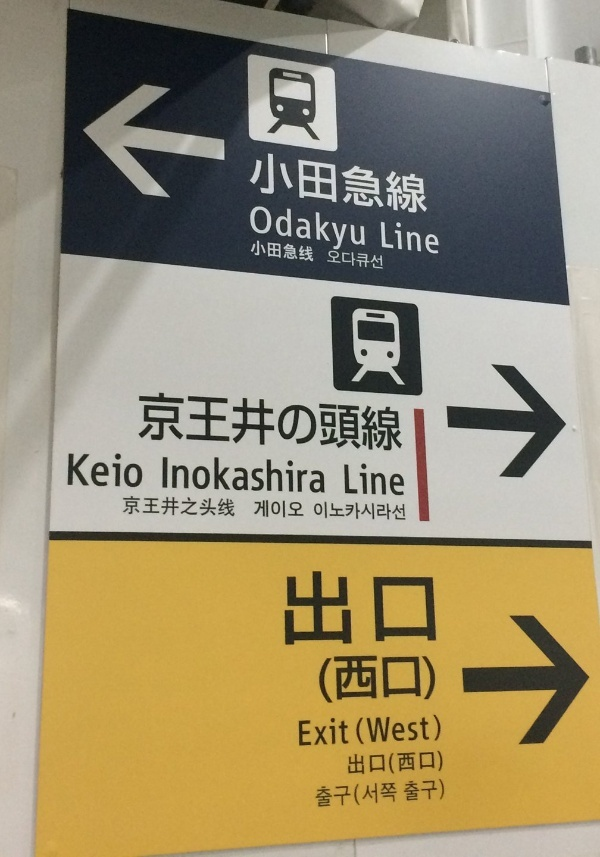text: (289, 571, 304, 646), (305, 571, 320, 646), (321, 571, 336, 646), (337, 571, 352, 646), (353, 571, 368, 646), (369, 571, 384, 646), (385, 571, 400, 646), (401, 571, 416, 646), (417, 571, 432, 646), (257, 152, 272, 217), (273, 152, 288, 217), (289, 152, 304, 217), (305, 152, 320, 217), (321, 152, 336, 217), (337, 152, 352, 217), (353, 152, 368, 217), (369, 152, 384, 217), (385, 152, 400, 217), (401, 152, 416, 217), (145, 392, 160, 453), (161, 392, 176, 453), (177, 392, 192, 453), (193, 392, 208, 453), (209, 392, 224, 453), (225, 392, 240, 453), (241, 392, 256, 453), (257, 392, 272, 453), (273, 392, 288, 453), (289, 392, 304, 453), (305, 392, 320, 453), (321, 392, 336, 453), (337, 392, 352, 453), (353, 392, 368, 453), (369, 392, 384, 453), (385, 392, 400, 453), (257, 205, 272, 255), (273, 205, 288, 255), (289, 205, 304, 255), (305, 205, 320, 255), (321, 205, 336, 255), (337, 205, 352, 255), (321, 655, 336, 705), (337, 655, 352, 705), (353, 655, 368, 705), (369, 655, 384, 705), (385, 655, 400, 705), (401, 655, 416, 705), (417, 655, 432, 705), (417, 152, 428, 217), (353, 205, 366, 255), (177, 456, 192, 495), (193, 456, 208, 495), (209, 456, 224, 495), (225, 456, 240, 495), (241, 456, 256, 495), (257, 456, 272, 495), (273, 456, 288, 495), (289, 456, 304, 495), (305, 456, 320, 495), (162, 456, 176, 495), (81, 453, 96, 489), (97, 453, 112, 489), (113, 453, 128, 489), (385, 221, 400, 256), (401, 221, 416, 256), (417, 221, 432, 256), (353, 462, 368, 497), (369, 462, 384, 497), (385, 462, 400, 497), (129, 453, 143, 489), (305, 716, 320, 746), (321, 716, 336, 746), (369, 714, 384, 744), (385, 714, 400, 744), (401, 714, 416, 744), (417, 714, 432, 744), (321, 779, 336, 808), (337, 779, 352, 808), (353, 779, 368, 808), (369, 779, 384, 808), (385, 779, 400, 808), (401, 779, 416, 808), (417, 779, 432, 808), (68, 453, 80, 489), (250, 152, 256, 217), (369, 753, 385, 776), (337, 716, 349, 746), (356, 714, 368, 744), (401, 750, 416, 774), (417, 750, 432, 774), (433, 779, 445, 808), (353, 753, 368, 776), (257, 240, 272, 262), (273, 240, 288, 262), (289, 240, 304, 262), (129, 496, 144, 518), (145, 496, 160, 518), (161, 496, 176, 518), (177, 496, 192, 518), (193, 496, 208, 518), (209, 496, 224, 518), (139, 392, 144, 453), (250, 205, 256, 255), (284, 571, 288, 646), (337, 250, 352, 270), (353, 250, 368, 270), (321, 502, 336, 521), (337, 502, 352, 521), (353, 502, 368, 521), (369, 502, 384, 521), (385, 502, 400, 521), (344, 462, 352, 497), (369, 250, 383, 270), (257, 500, 272, 518), (273, 500, 288, 518), (389, 750, 400, 774), (289, 500, 303, 518), (225, 496, 236, 518), (433, 714, 441, 744), (433, 750, 443, 774), (433, 571, 436, 646), (433, 221, 439, 256), (433, 655, 437, 705), (305, 240, 314, 262), (327, 250, 336, 270), (321, 456, 325, 495), (299, 716, 304, 746), (401, 462, 405, 497), (316, 779, 320, 808), (314, 502, 320, 521), (123, 496, 128, 518), (381, 221, 384, 256), (401, 502, 406, 521), (348, 753, 352, 776), (252, 240, 256, 262), (401, 392, 402, 453), (255, 500, 256, 518)
